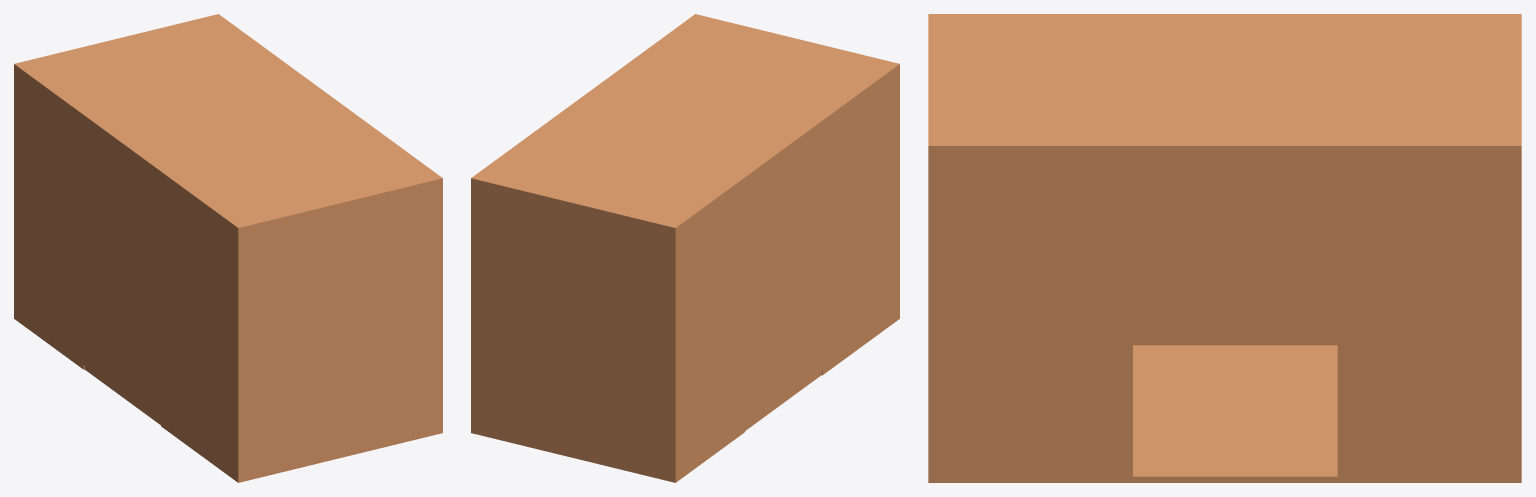
Rendered from house_chicken.fbx.
3 renders of one model, left to right at view 1: azimuth 30°, elevation 25°; view 2: azimuth 150°, elevation 25°; view 3: azimuth 270°, elevation 25°, orthographic. The views are drawn at different scales.
Parts seen in each view (by area): view 1: Cube; view 2: Cube; view 3: Cube.
Part boxes in pixels (x1,y1,x2,y2): Cube: [14, 14, 442, 482]; Cube: [471, 14, 899, 482]; Cube: [928, 14, 1521, 482].
Bounding box in the file's own units: 200 × 238 × 380.
